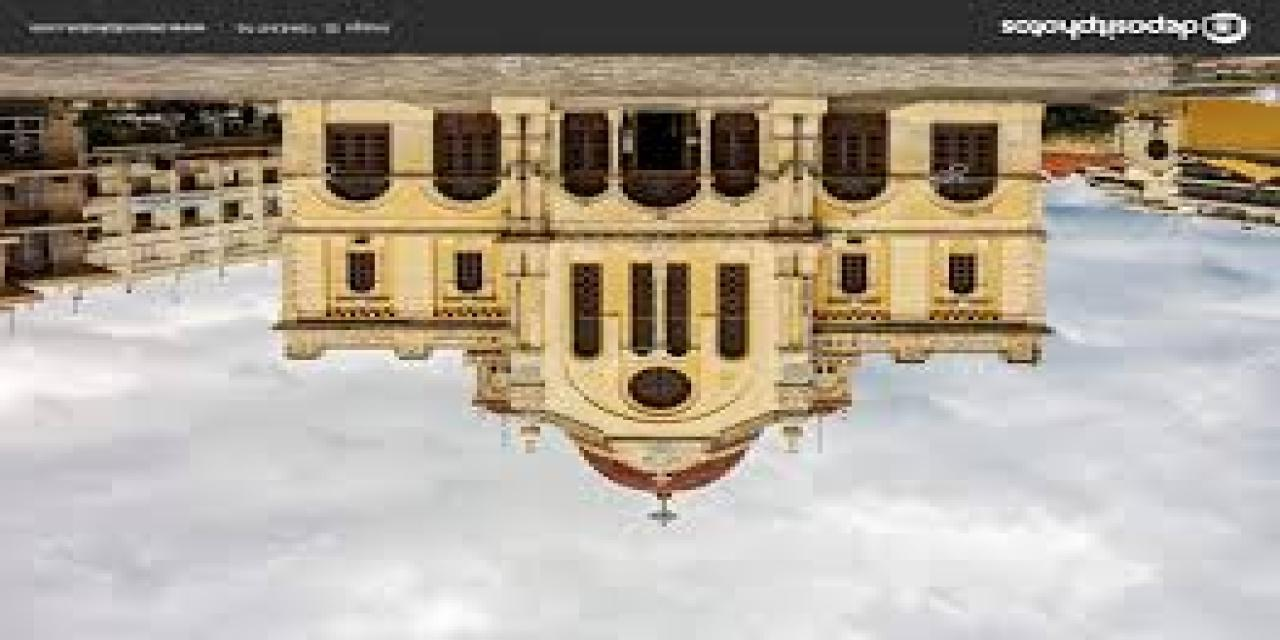Agios Minas: (272, 96, 1050, 528)
